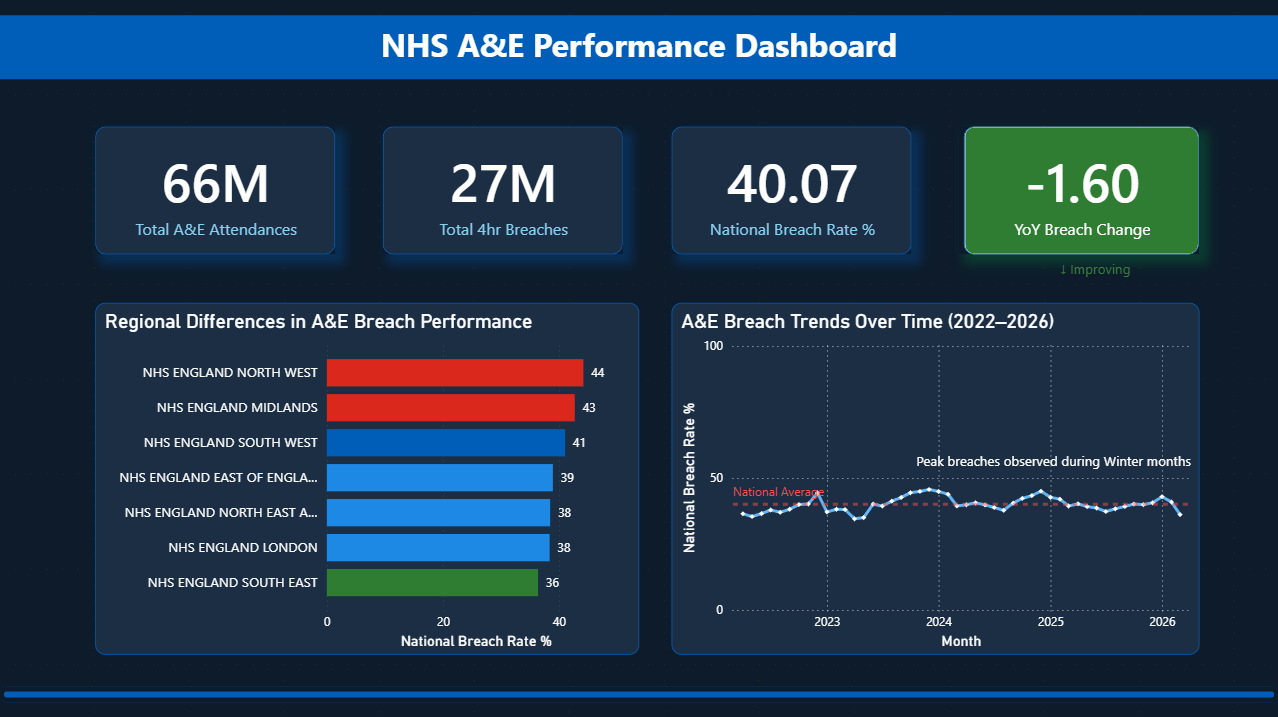

The dashboard page shown, as its layout file describes it:
{"tool":"powerbi","page":{"name":"National Overview","canvas":[1280,720],"ordinal":0},"visuals":[{"type":"cardVisual","title":"Total Type 1 Attendances","fields":{"Data":["ae_performance.Total Type 1 Attendances"]},"box":[96,128,240,128],"z":0},{"type":"cardVisual","title":"Total 4hr Breaches","fields":{"Data":["ae_performance.Total 4hr Breaches"]},"box":[384,128,240,128],"z":1000},{"type":"cardVisual","title":"Overall Breach Rate %","fields":{"Data":["ae_performance.National Breach Rate %"]},"box":[672,128,240,128],"z":2000},{"type":"lineChart","title":"A&E Breach Trends Over Time (2022–2026)","fields":{"Category":["ae_performance.month_date.Variation.Date Hierarchy.Year","ae_performance.month_date.Variation.Date Hierarchy.Quarter","ae_performance.month_date.Variation.Date Hierarchy.Month","ae_performance.month_date.Variation.Date Hierarchy.Day"],"Y":["ae_performance.National Breach Rate %"]},"box":[672,304,528,352],"z":3000},{"type":"clusteredBarChart","title":"Regional Differences in A&E Breach Performance","fields":{"Y":["ae_performance.National Breach Rate %"],"Category":["ae_performance.parent_org"]},"box":[96,304,544,352],"z":4000},{"type":"textbox","box":[0,16,1280,64],"z":5000},{"type":"shape","box":[0,688,1280,16],"z":6000},{"type":"cardVisual","fields":{"Data":["ae_performance.YoY Breach Change"]},"box":[960,128,240,128],"z":7000},{"type":"textbox","box":[1056,256,96,32],"z":8000},{"type":"textbox","box":[912,448,288,32],"z":9000}]}

Visuals, with their boxes in screenshot pixels (x1, y1, x2, y2), scaled from the page's 1280x720 canvas onto the 1278x717 screenshot:
"Total Type 1 Attendances" cardVisual: 96/127/335/255
"Total 4hr Breaches" cardVisual: 383/127/623/255
"Overall Breach Rate %" cardVisual: 671/127/911/255
"A&E Breach Trends Over Time (2022–2026)" lineChart: 671/303/1198/653
"Regional Differences in A&E Breach Performance" clusteredBarChart: 96/303/639/653
textbox: 0/16/1277/80
shape: 0/685/1277/701
cardVisual - ae_performance.YoY Breach Change: 958/127/1198/255
textbox: 1054/255/1150/287
textbox: 911/446/1198/478
